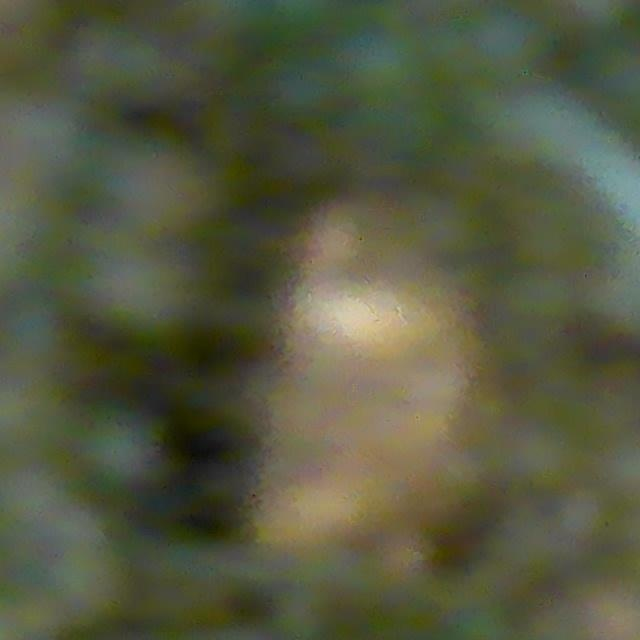SeaGrape: (79, 408, 169, 494), (470, 4, 546, 77)
